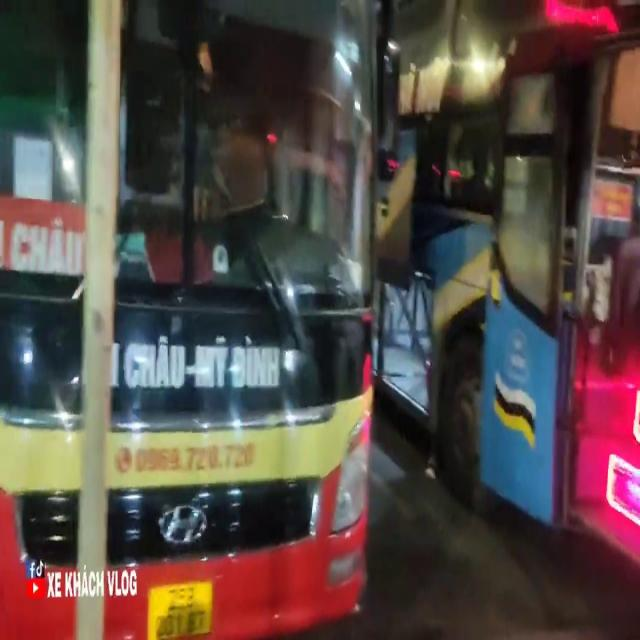bien_vang: (143, 572, 215, 640)
